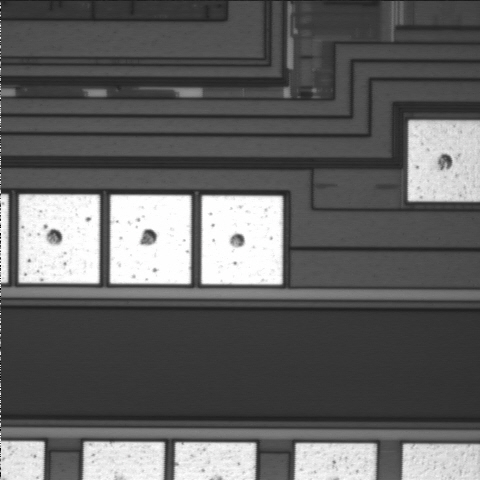pad: (201, 196, 283, 285), (19, 194, 100, 284), (110, 195, 191, 284)
